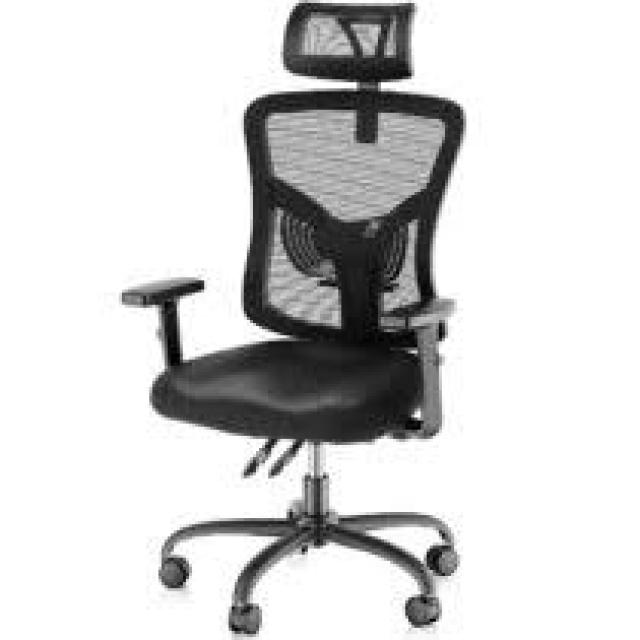chair: (95, 0, 517, 640)
